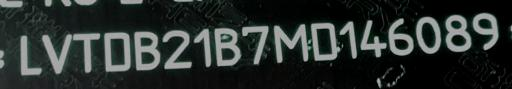letter: (40, 27, 74, 78), (271, 22, 309, 67), (100, 27, 134, 76), (308, 19, 342, 66), (240, 22, 272, 69), (71, 30, 103, 77), (160, 29, 194, 72), (14, 33, 46, 78), (388, 13, 416, 64), (472, 10, 502, 57), (358, 19, 388, 66), (414, 12, 444, 57), (211, 24, 241, 69), (131, 29, 161, 74), (442, 13, 472, 56), (338, 15, 362, 66), (193, 26, 215, 71)
